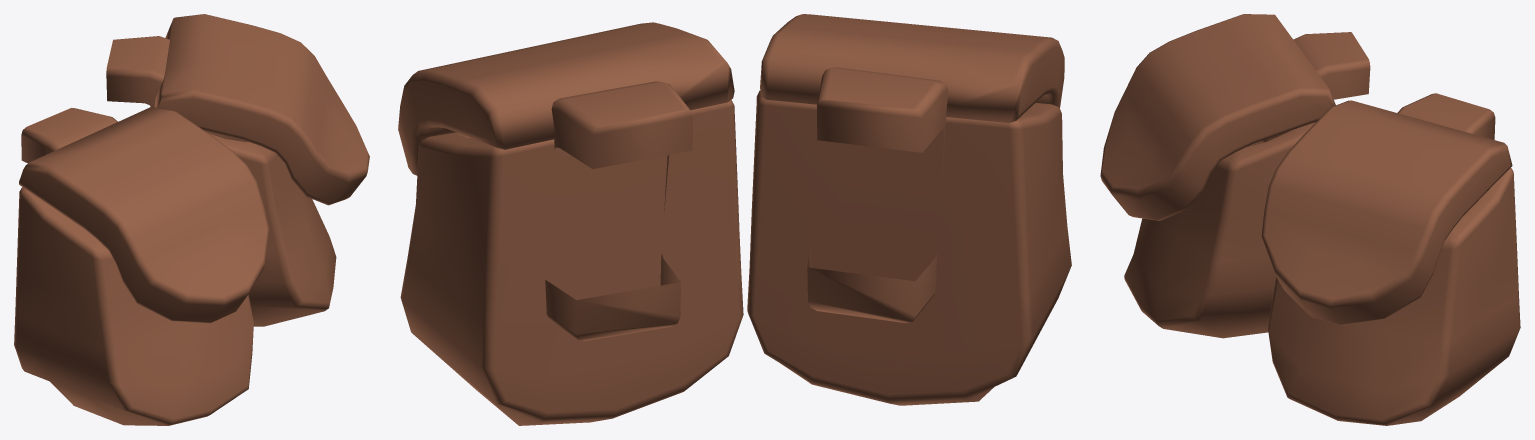
Rendered from BeltBag01_mesh.fbx.
The picture shows the model from 3 angles, left to right: view 1: azimuth 30°, elevation 25°; view 2: azimuth 150°, elevation 25°; view 3: azimuth 270°, elevation 25°; orthographic projection. The views are drawn at different scales.
Visible parts, largest first — view 1: BeltBag_01; view 2: BeltBag_01; view 3: BeltBag_01.
Boxes of the visible parts, bbox=[...] form: BeltBag_01: bbox=[14, 14, 369, 425]; BeltBag_01: bbox=[398, 14, 1071, 425]; BeltBag_01: bbox=[1100, 14, 1520, 425].
Bounding box in the file's own units: 19.55 × 12.38 × 17.87.
